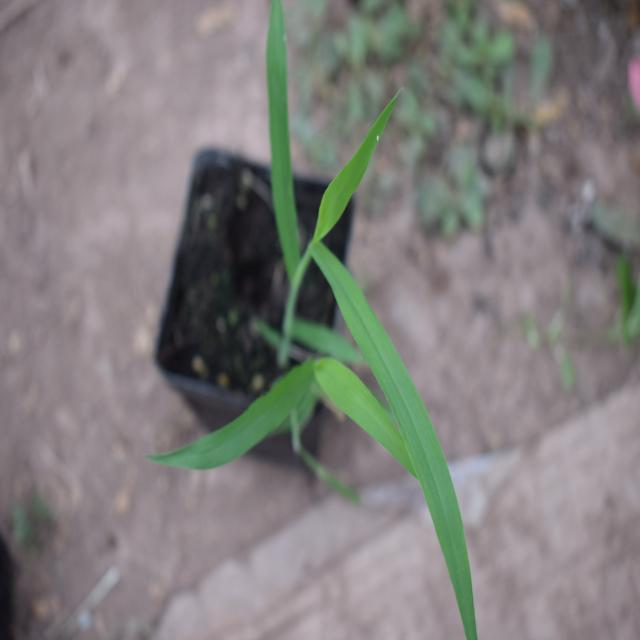crabgrass: (203, 54, 477, 588)
